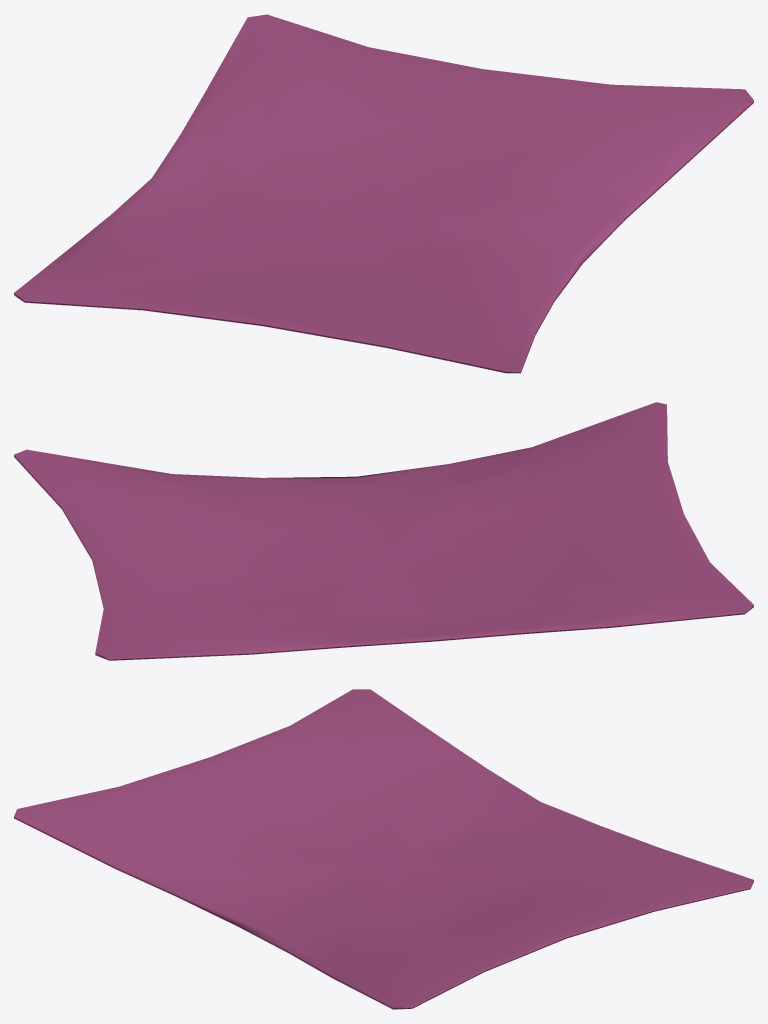
File: Enviro_MarketTop_Pink_Creole_Untextured.fbx
The picture shows the model from 3 angles, top to bottom: view 1: azimuth 30°, elevation 25°; view 2: azimuth 150°, elevation 25°; view 3: azimuth 270°, elevation 25°; orthographic projection. The views are drawn at different scales.
Parts seen in each view (by area): view 1: Cloth_Pink; view 2: Cloth_Pink; view 3: Cloth_Pink.
Boxes of the visible parts, left/top/right/bottom form: Cloth_Pink: left=14, top=14, right=753, bottom=373; Cloth_Pink: left=14, top=402, right=753, bottom=660; Cloth_Pink: left=14, top=689, right=753, bottom=1009.
Bounding box in the file's own units: 6.17 × 0.2883 × 6.06.
